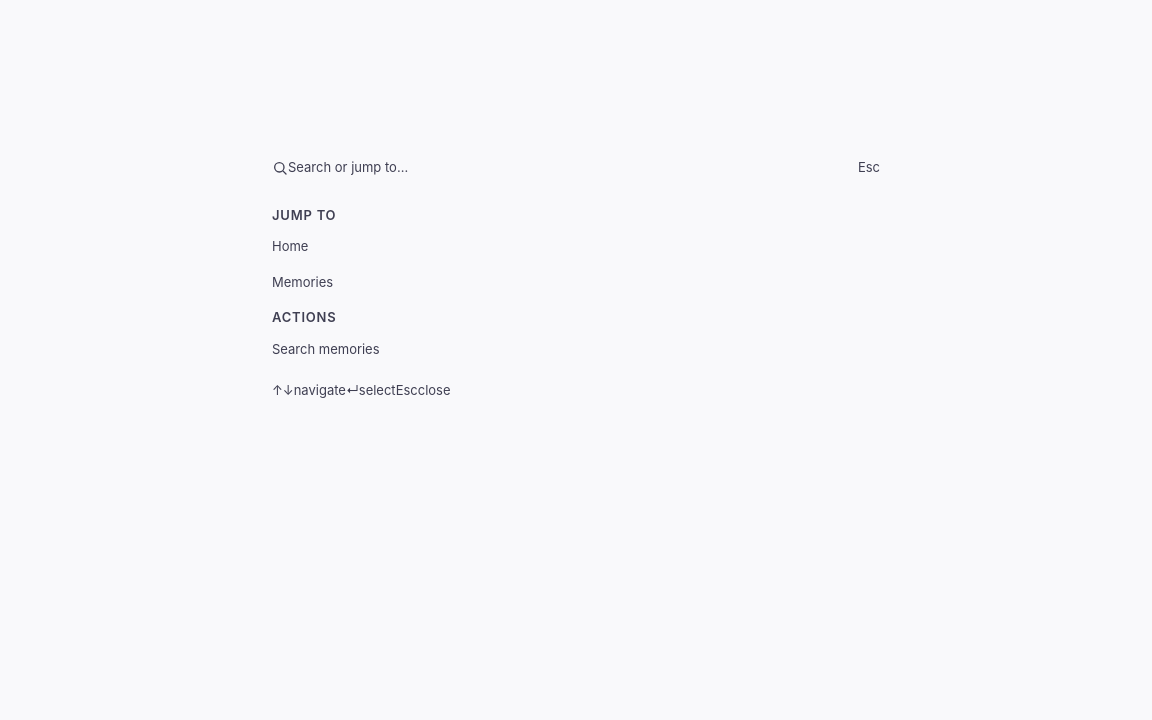
Test case: CommandPalette — filtering › filters commands by label (case-insensitive)
This screenshot has width=1152, height=720.
Type "mem" into the field with placeholder "Search or jump to…". click: [573, 168]
box: [288,158,858,178]
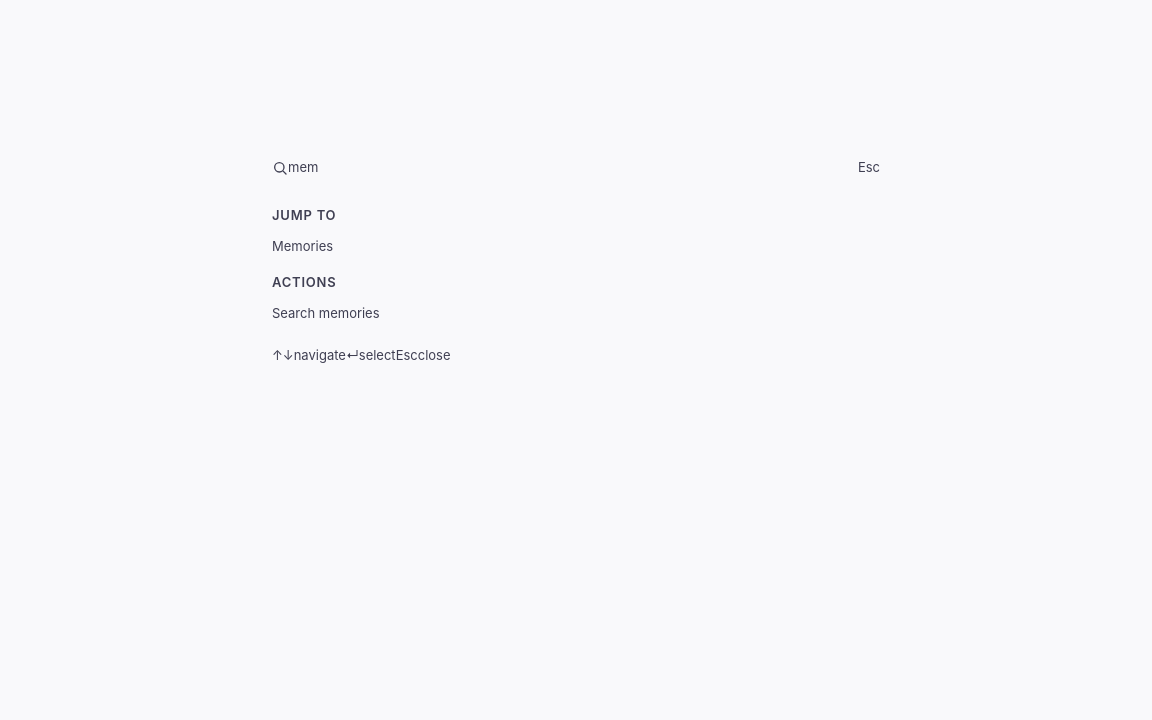
Check: the text "Memories" is shown, box [272,238,333,254]
Check: the option "Home" is gone
